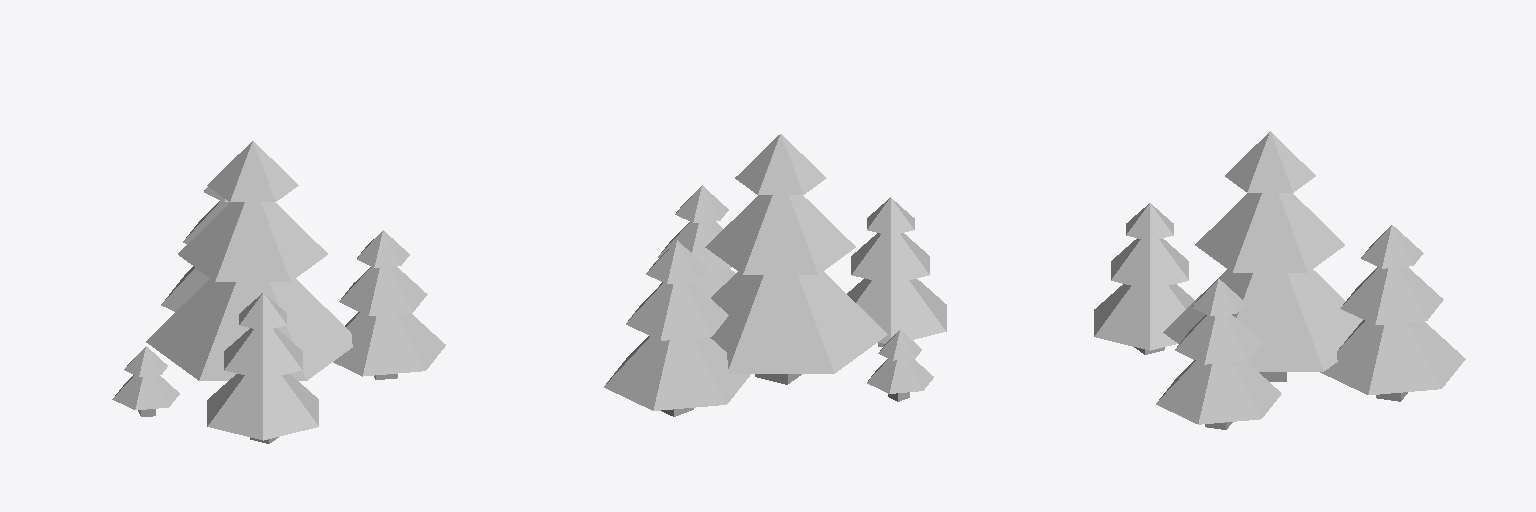
The model's file is Forest_1.obj.
3 views of the same model, side by side, from view 1: azimuth 30°, elevation 25°; view 2: azimuth 150°, elevation 25°; view 3: azimuth 270°, elevation 25° (orthographic).
Visible parts, largest first — view 1: Wood; view 2: Wood; view 3: Wood.
Part boxes in pixels (x1,y1,x2,y2): Wood: (112,141,445,443); Wood: (604,134,946,416); Wood: (1094,131,1465,429).
Size of the model in its own units: 0.9143 by 0.7076 by 0.9847.